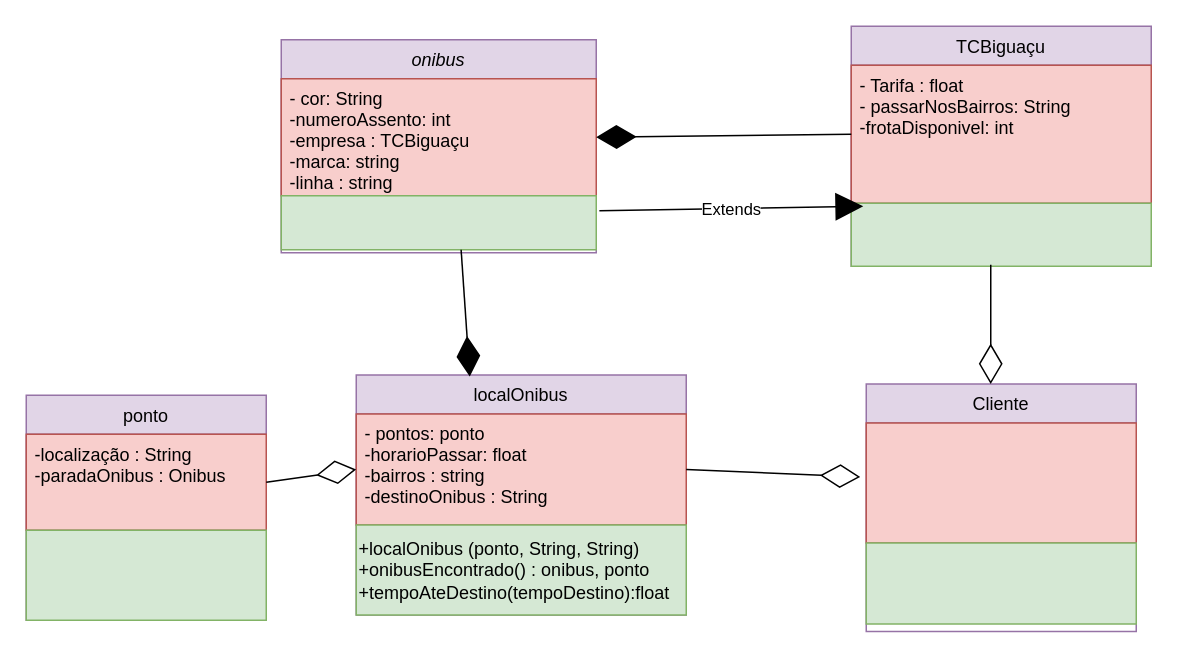
The diagram is 1178 pixels wide and 659 high, and some of its shapes have lost their labels. The centre of each missing label's shape, as x and y in pixels:
"+Cliente (String, int ) +passe( boolean) +achaOnibus(): localOnibus" goes at (x=1000, y=583).
"+Onibus (string, int , string, string) +numerodePessoas():int" goes at (x=438, y=222).
"+ponto (String, onibus)" goes at (x=145, y=574).
"+TCBiguaçu : (float, String,int) +preçoTarifa(Tarifa): int" goes at (x=1000, y=234).
"-nome: String -idade: int -passe : boolean -estudante: boolean -tarifa : Tarifa" goes at (x=1000, y=482).
